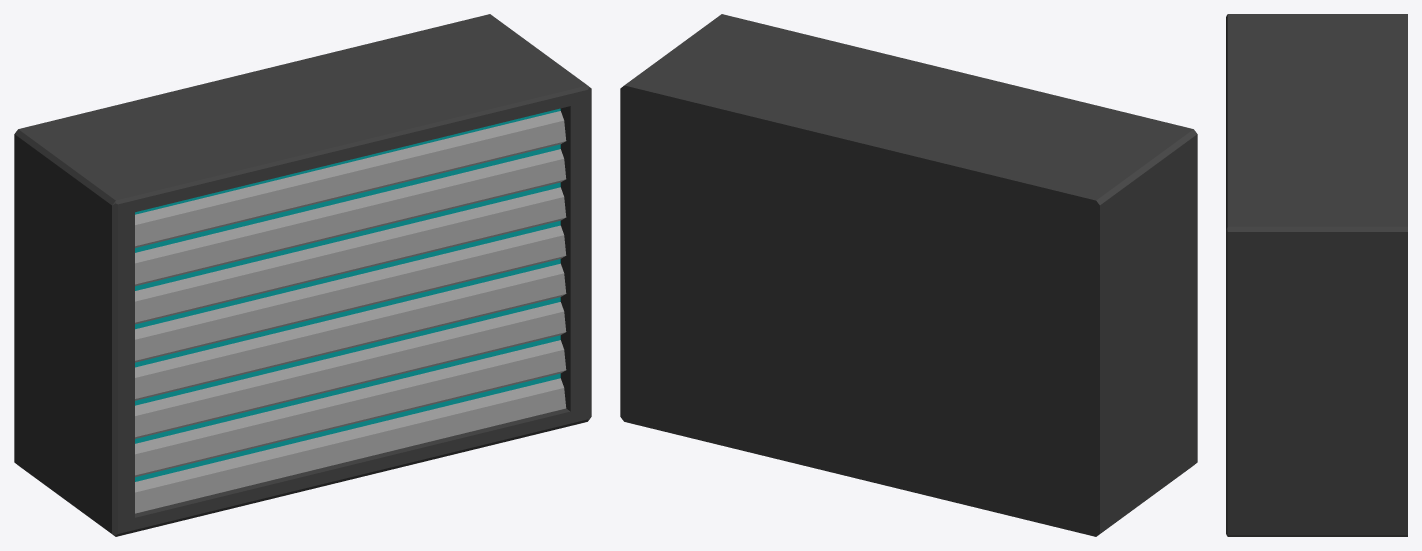
File: AirVent_Exhaust_01.glb
3 renders of one model, left to right at view 1: azimuth 30°, elevation 25°; view 2: azimuth 150°, elevation 25°; view 3: azimuth 270°, elevation 25°, orthographic. The views are drawn at different scales.
Parts seen in each view (by area): view 1: AirVent_Exhaust_01; view 2: AirVent_Exhaust_01; view 3: AirVent_Exhaust_01.
Boxes of the visible parts, left/top/right/bottom form: AirVent_Exhaust_01: left=14, top=14, right=591, bottom=536; AirVent_Exhaust_01: left=620, top=14, right=1197, bottom=536; AirVent_Exhaust_01: left=1226, top=14, right=1407, bottom=536.
Size of what is drawn, in the model's own units: 0.9649 by 0.6468 by 0.3437.
Materials: 2 (2 with a texture image).
